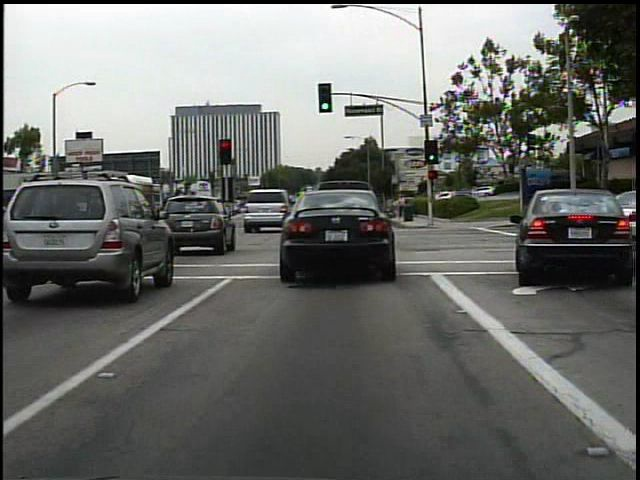person: (397, 194, 407, 221)
